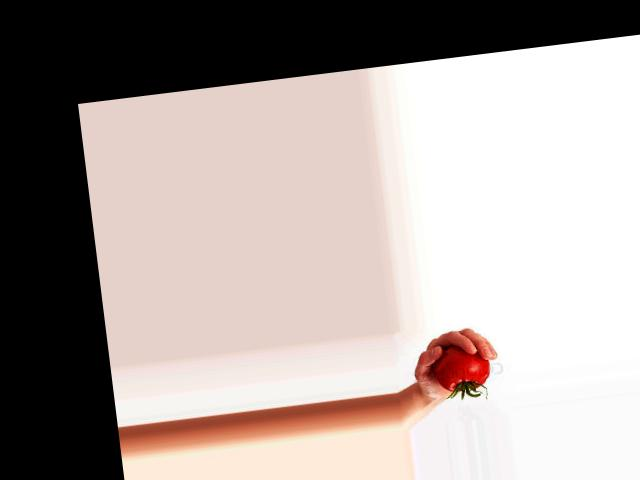tomato: (432, 341, 492, 394)
